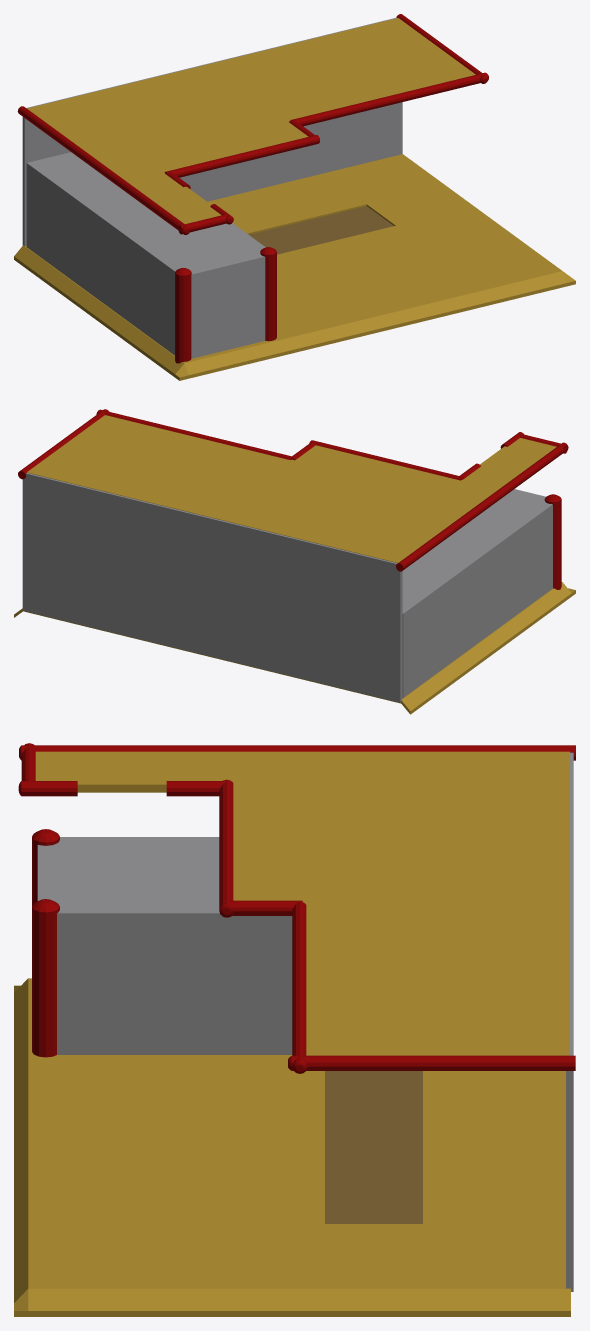
File: temple_structure.fbx
3 views of the same model, one above another, from view 1: azimuth 30°, elevation 25°; view 2: azimuth 150°, elevation 25°; view 3: azimuth 270°, elevation 25° (orthographic). The views are drawn at different scales.
Parts seen in each view (by area): view 1: Cube, Cube.005, Cube.002, Cube.001, Cylinder.008, Cylinder.010, Cylinder.005, Cylinder.011, Cylinder.004, Cylinder.009; view 2: Cube.001, Cube.005, Cube.002, Cube, Cylinder.008, Cylinder.010, Cylinder.005, Cylinder.011, Cylinder.009; view 3: Cube, Cube.005, Cube.002, Cylinder.009, Cylinder.004, Cylinder.008, Cube.001, Cylinder.010, Cylinder.011, Cylinder.006, Cylinder.013, Cylinder.007 (+1 smaller).
Boxes of the visible parts, <box> form: Cube: <box>14,154,575,380</box>; Cube.005: <box>27,18,475,224</box>; Cube.002: <box>26,152,265,358</box>; Cube.001: <box>22,17,402,245</box>; Cylinder.008: <box>17,106,190,234</box>; Cylinder.010: <box>293,72,488,126</box>; Cylinder.005: <box>175,268,191,363</box>; Cylinder.011: <box>164,135,319,177</box>; Cylinder.004: <box>260,247,276,341</box>; Cylinder.009: <box>396,14,487,83</box>; Cube.001: <box>22,473,402,702</box>; Cube.005: <box>27,415,556,563</box>; Cube.002: <box>402,489,552,697</box>; Cube: <box>14,582,575,714</box>; Cylinder.008: <box>396,442,568,571</box>; Cylinder.010: <box>96,409,291,459</box>; Cylinder.005: <box>544,494,561,589</box>; Cylinder.011: <box>309,440,463,480</box>; Cylinder.009: <box>18,409,109,479</box>; Cube: <box>14,978,570,1316</box>; Cube.005: <box>35,751,569,1055</box>; Cube.002: <box>37,837,292,1054</box>; Cylinder.009: <box>288,1055,575,1070</box>; Cylinder.004: <box>32,899,59,1057</box>; Cylinder.008: <box>19,745,575,760</box>; Cube.001: <box>566,752,573,1291</box>; Cylinder.010: <box>292,901,307,1073</box>; Cylinder.011: <box>219,779,233,917</box>; Cylinder.006: <box>225,900,302,915</box>; Cylinder.013: <box>18,781,77,796</box>; Cylinder.007: <box>166,781,229,796</box>.
Bounding box in the file's own units: 3366 × 1219 × 2456.
